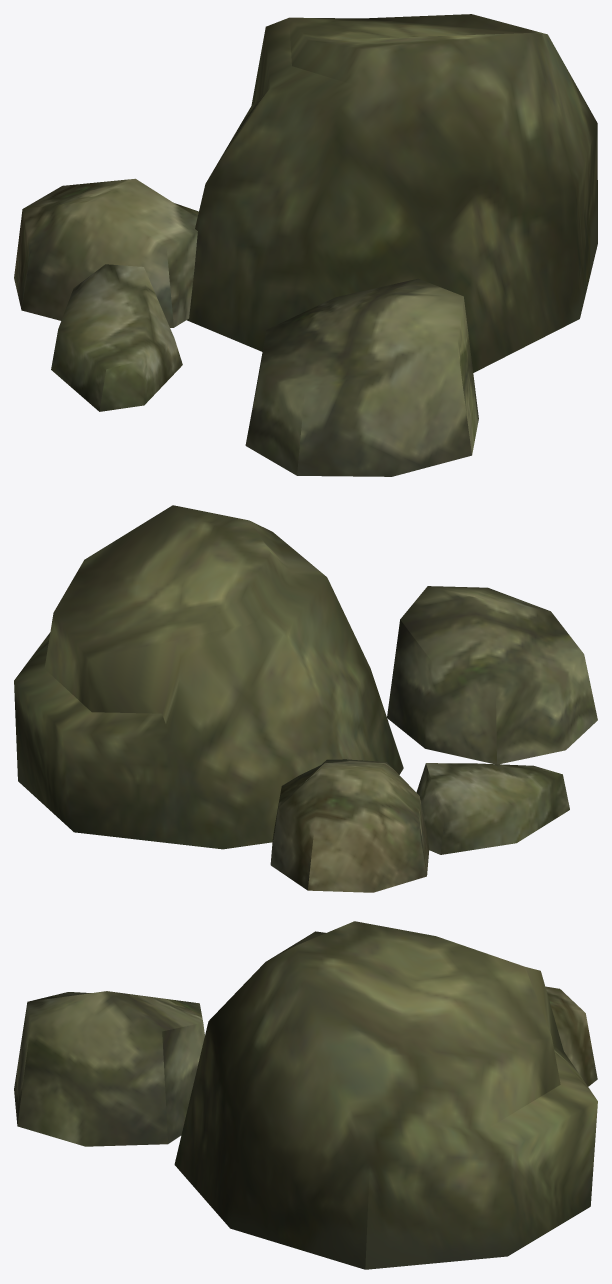
Rendered from hi_shitou_uv6.FBX.
The picture shows the model from 3 angles, top to bottom: view 1: azimuth 30°, elevation 25°; view 2: azimuth 150°, elevation 25°; view 3: azimuth 270°, elevation 25°; orthographic projection. The views are drawn at different scales.
Visible parts, largest first — view 1: hh_shitou_04; view 2: hh_shitou_04; view 3: hh_shitou_04.
Part boxes in pixels (x1=…): hh_shitou_04: x1=14, y1=14, x2=597, y2=476; hh_shitou_04: x1=14, y1=505, x2=597, y2=892; hh_shitou_04: x1=14, y1=921, x2=597, y2=1269.
Bounding box in the file's own units: 13.27 × 5.98 × 13.14.
